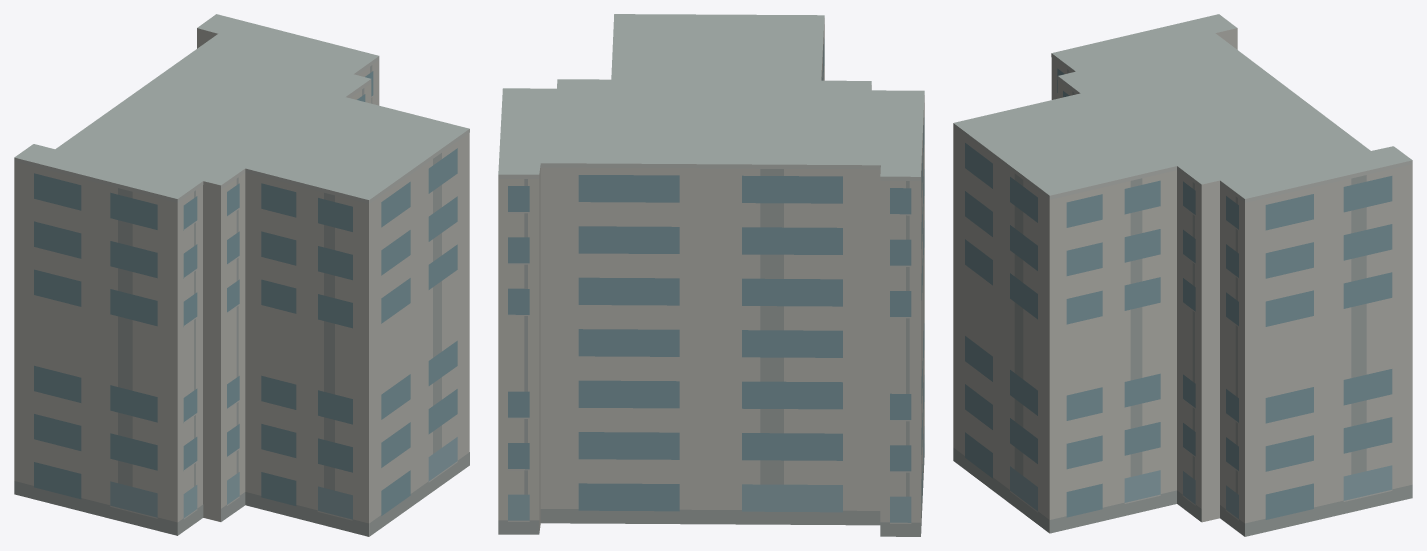
Rendered from survey-upis-32905228.glb.
The picture shows the model from 3 angles, left to right: view 1: azimuth 30°, elevation 25°; view 2: azimuth 150°, elevation 25°; view 3: azimuth 270°, elevation 25°; orthographic projection. The views are drawn at different scales.
Visible parts, largest first — view 1: survey-upis-32905228.tmp; view 2: survey-upis-32905228.tmp; view 3: survey-upis-32905228.tmp.
Part boxes in pixels (x1=…): survey-upis-32905228.tmp: x1=14, y1=14, x2=469, y2=536; survey-upis-32905228.tmp: x1=498, y1=14, x2=924, y2=536; survey-upis-32905228.tmp: x1=953, y1=14, x2=1412, y2=536.
Size of the model in its own units: 23.8 by 20.25 by 24.97.
